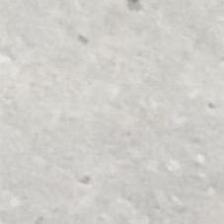Non_Crack: (16, 28, 212, 186)
